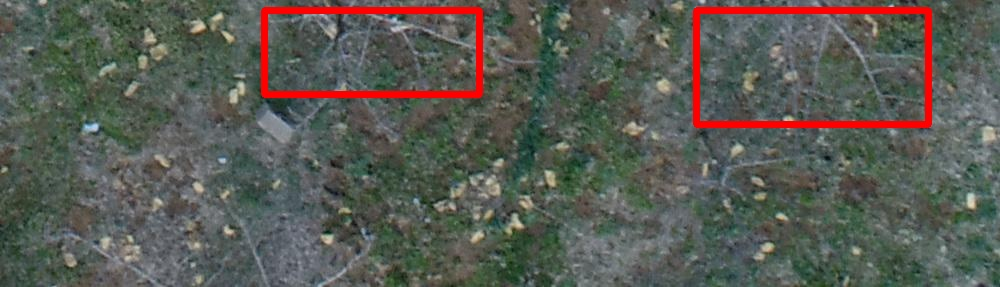apple: (696, 10, 928, 124), (264, 10, 479, 94)
